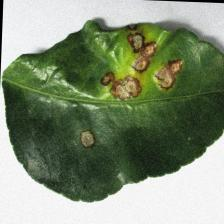canker: (72, 22, 190, 162)
